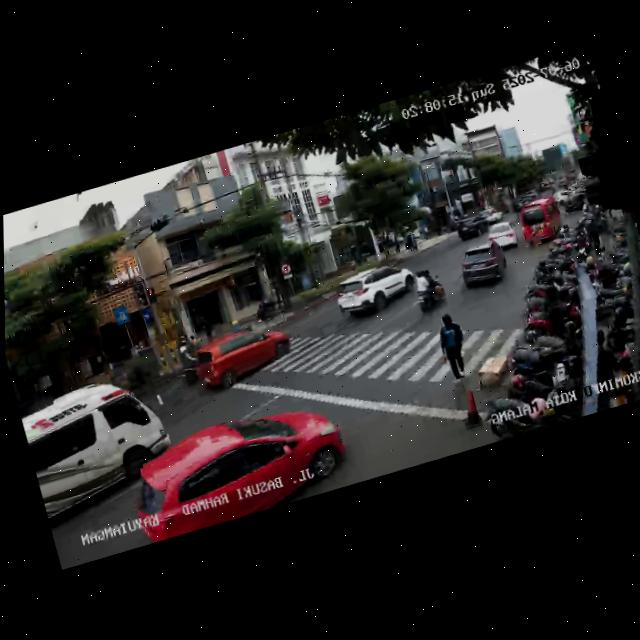car: (118, 391, 353, 547), (16, 363, 183, 533), (184, 315, 297, 400), (330, 254, 422, 325), (452, 234, 513, 295), (515, 193, 569, 251), (453, 209, 496, 244), (484, 217, 520, 253), (477, 203, 505, 225)
motorcycle: (406, 260, 451, 317)
person: (432, 310, 474, 388)
